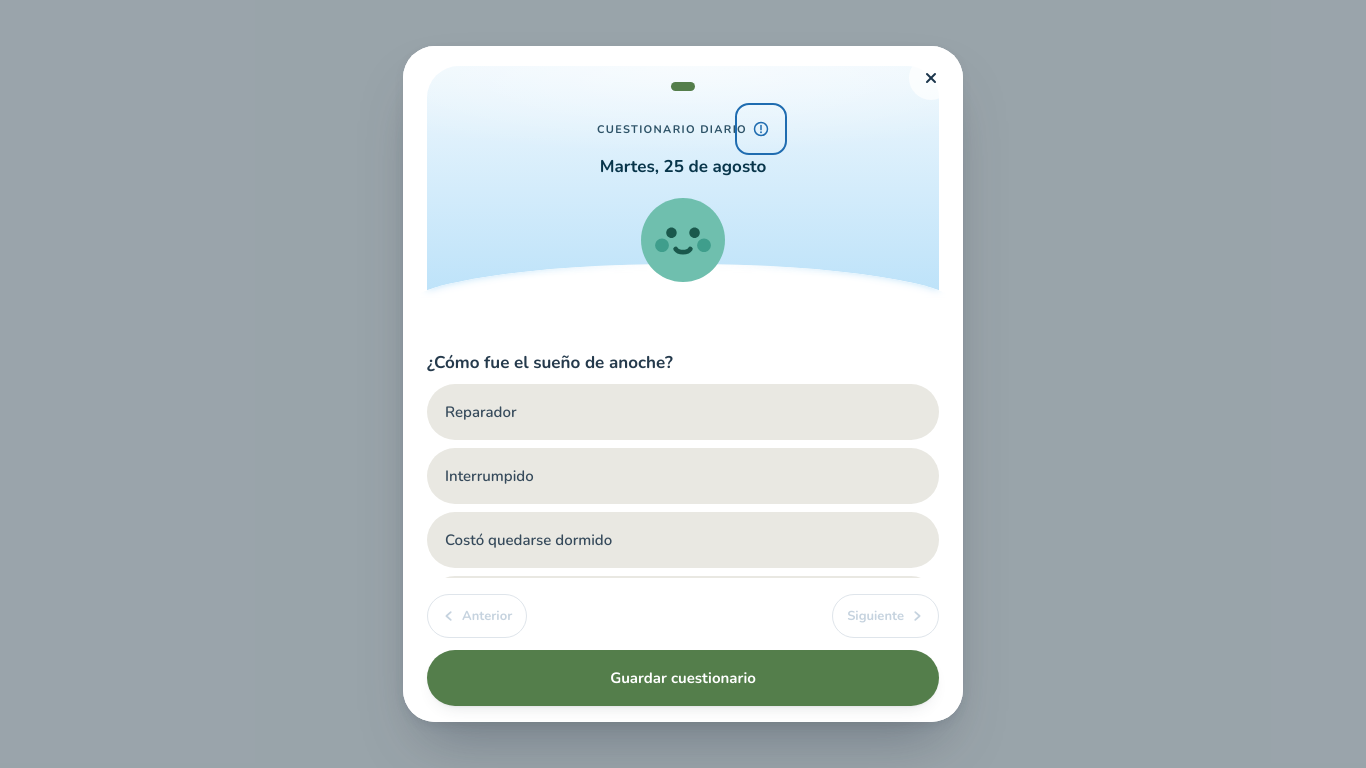
Test: DialogoCuestionario › al guardar enseña qué se va a enviar por ti y pregunta antes de hacerlo
Click the button with class "boton--principal": click(683, 678) [427,650,939,706]
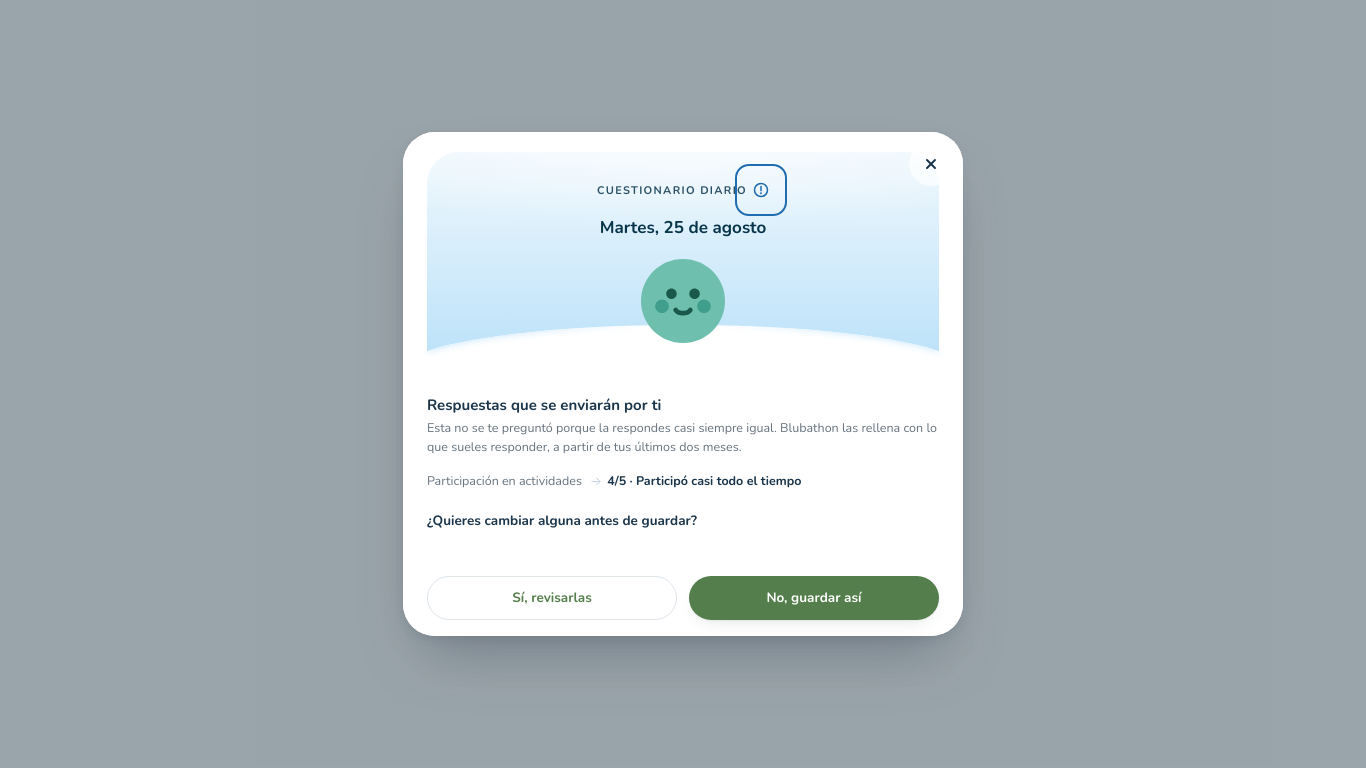
Check: the element with class "sugeridas" shows "Participación en actividades", box [427,472,582,489]
Check: the element with class "sugeridas" shows "4", box [604,472,801,489]
Check: the text "¿Quieres cambiar alguna antes de guardar?" is shown, box [427,511,697,530]
